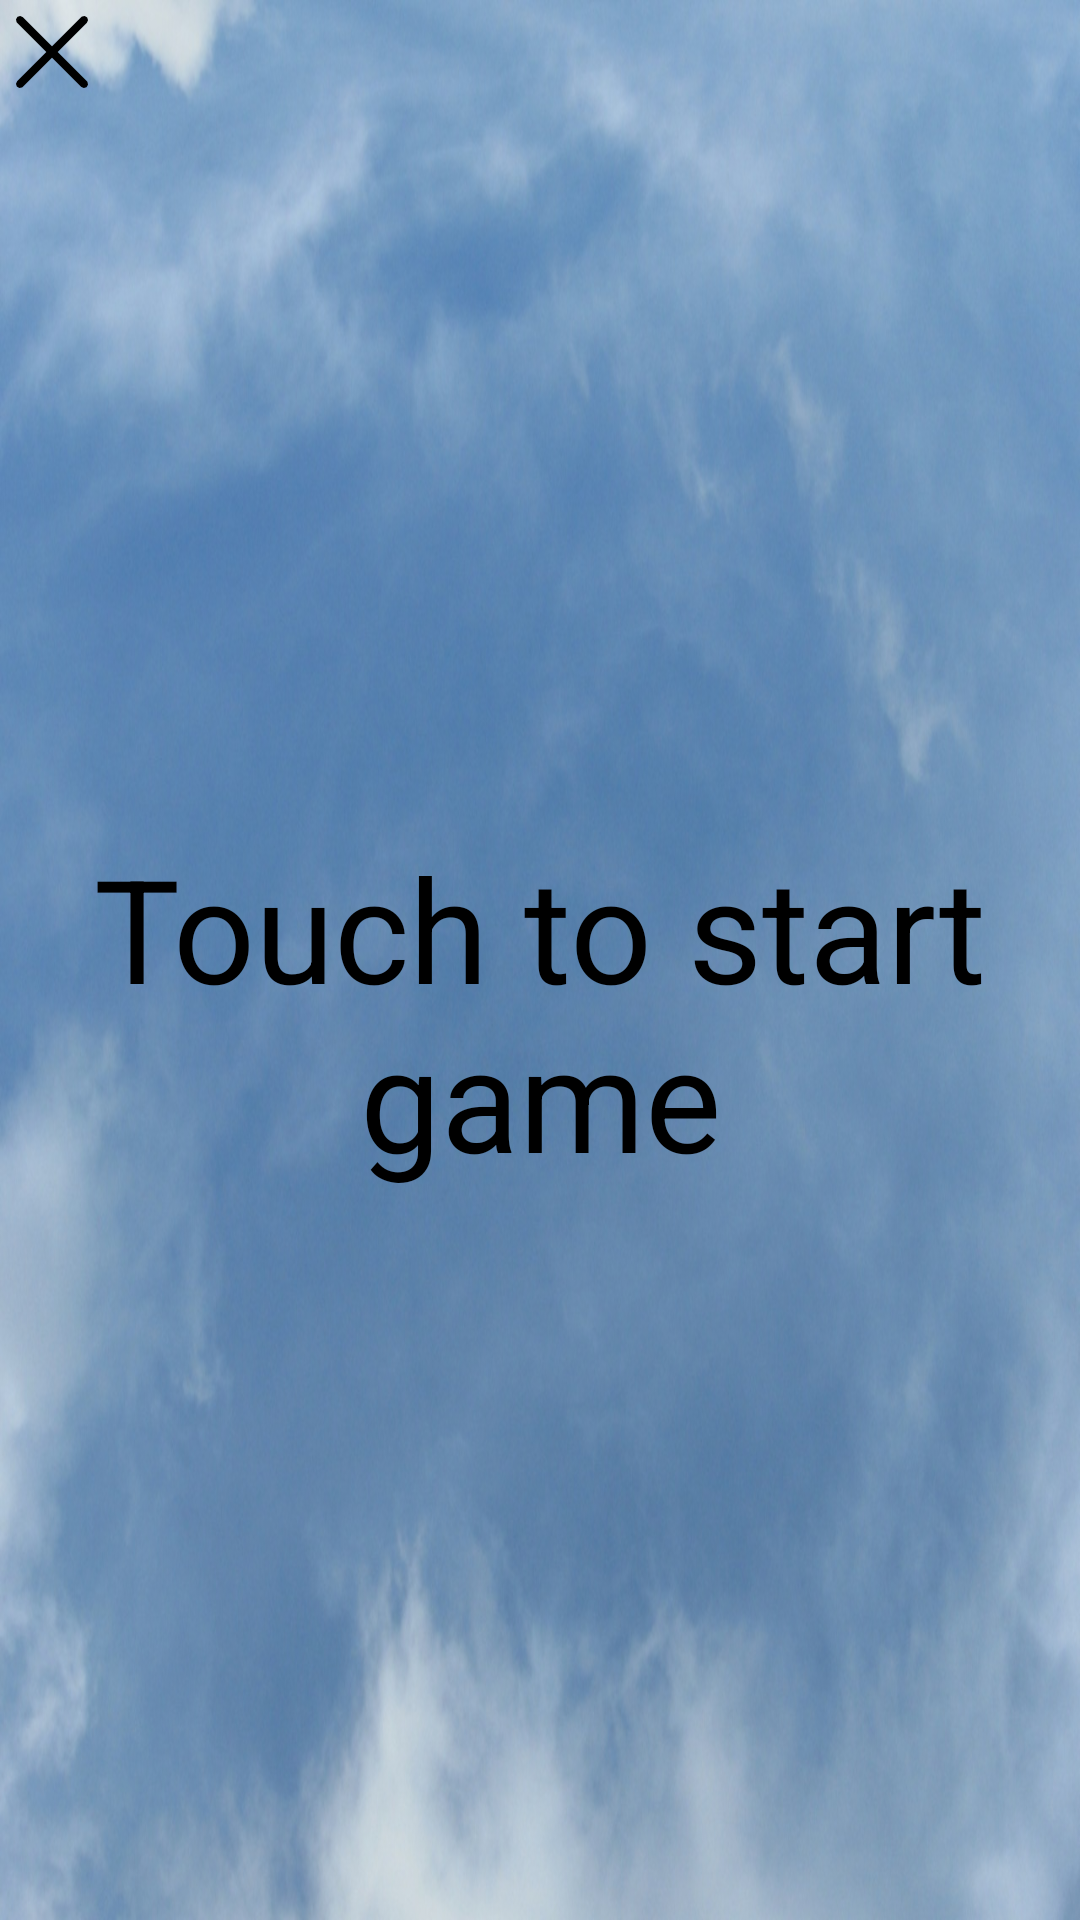

Named icons in this screenshot (1080px×1920px) and their centers, (x,y):
quit: (52,52)
